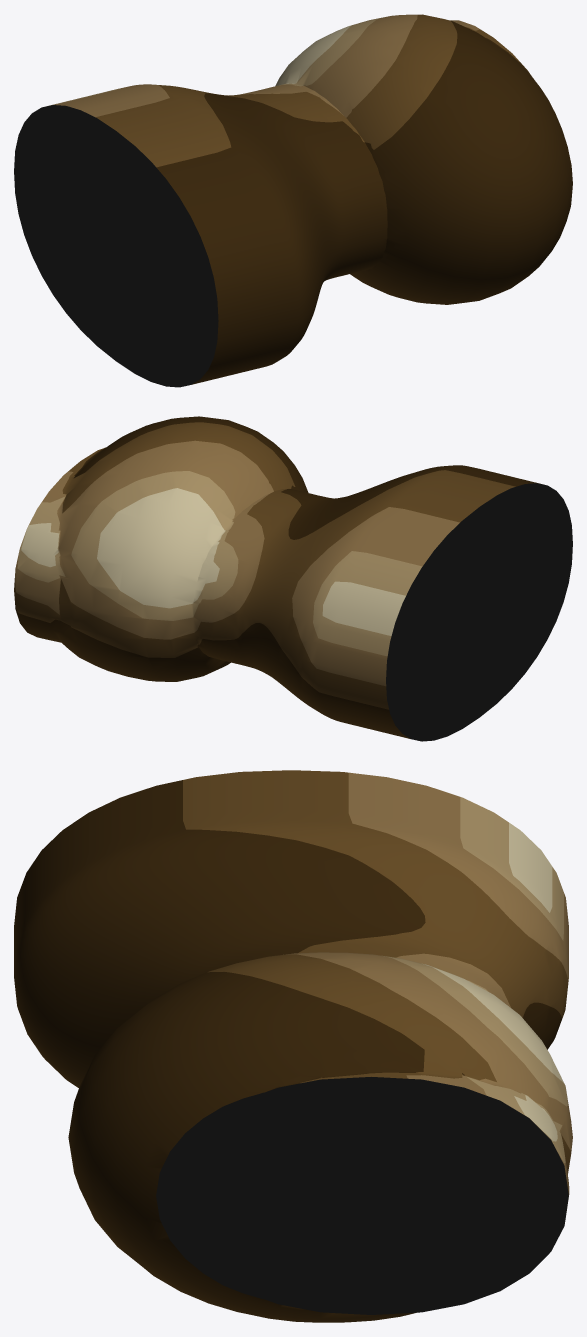
The model's file is tusk_arm_a_155.glb.
The picture shows the model from 3 angles, top to bottom: view 1: azimuth 30°, elevation 25°; view 2: azimuth 150°, elevation 25°; view 3: azimuth 270°, elevation 25°; orthographic projection. The views are drawn at different scales.
Parts seen in each view (by area): view 1: tusk_arm_a_155; view 2: tusk_arm_a_155; view 3: tusk_arm_a_155.
Boxes of the visible parts, bbox=[...] form: tusk_arm_a_155: bbox=[14, 14, 572, 387]; tusk_arm_a_155: bbox=[14, 416, 572, 741]; tusk_arm_a_155: bbox=[14, 770, 572, 1322].
Bounding box in the file's own units: 24 × 14 × 21.05.
